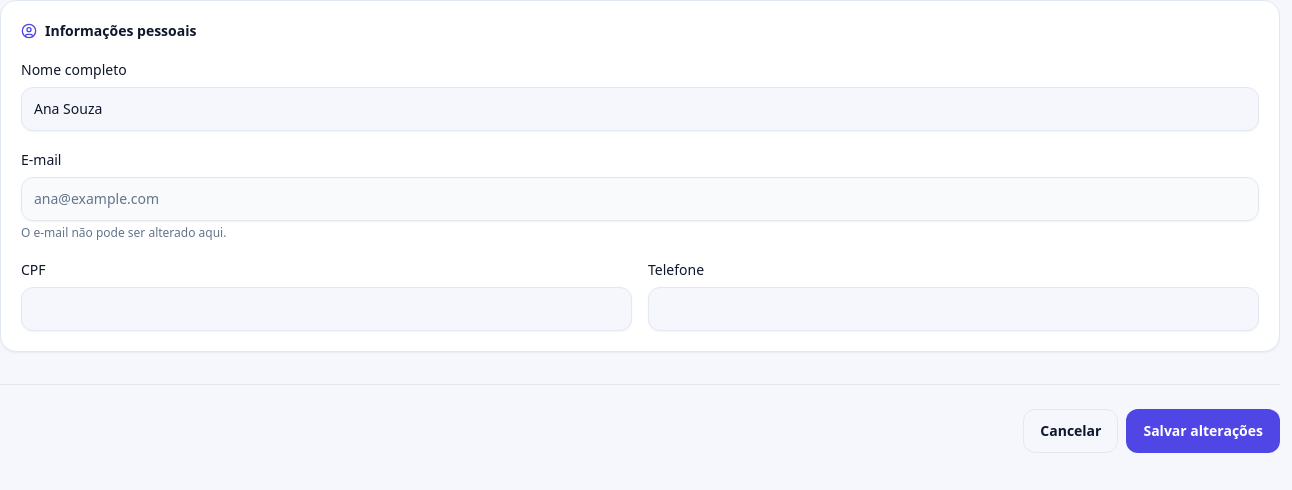
Test: PerfilFormContent › mostra uma mensagem específica quando o nome está vazio
This screenshot has width=1292, height=490.
Clear the field labelled "Nome completo" at (640, 109), box [21,87,1259,131]
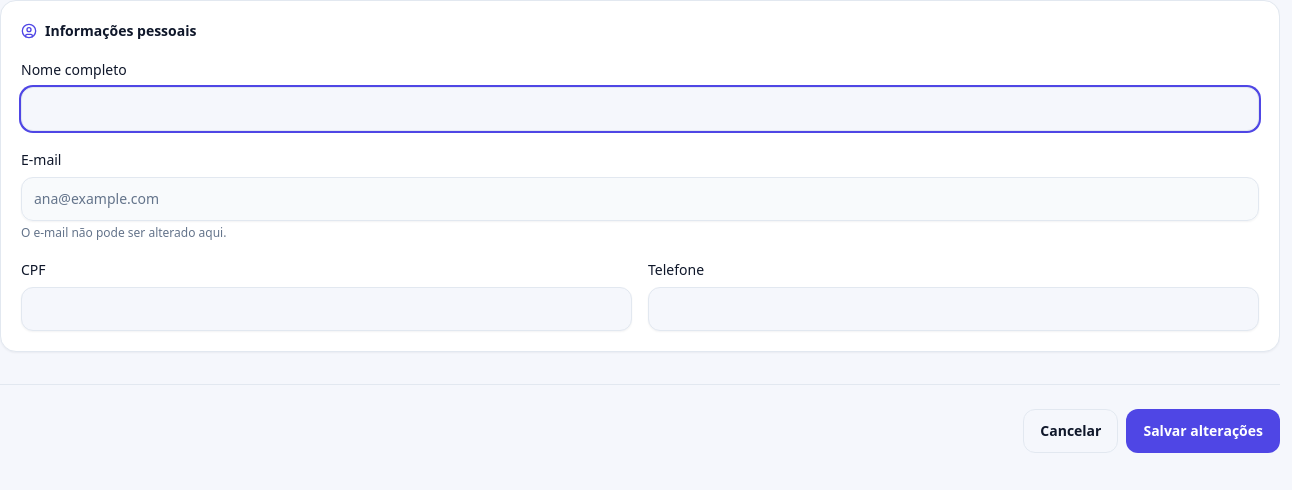
Click the button "Salvar alterações" at (1203, 431), box [1126,409,1280,453]
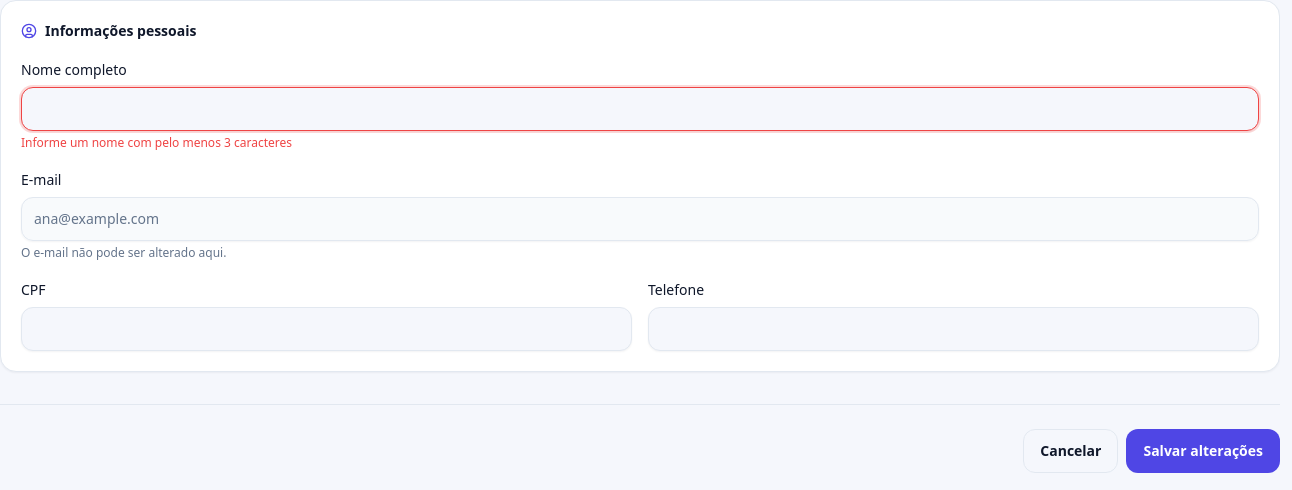
Expected: the text "Informe um nome com pelo menos 3 caracteres" is shown, [21,134,292,151]
